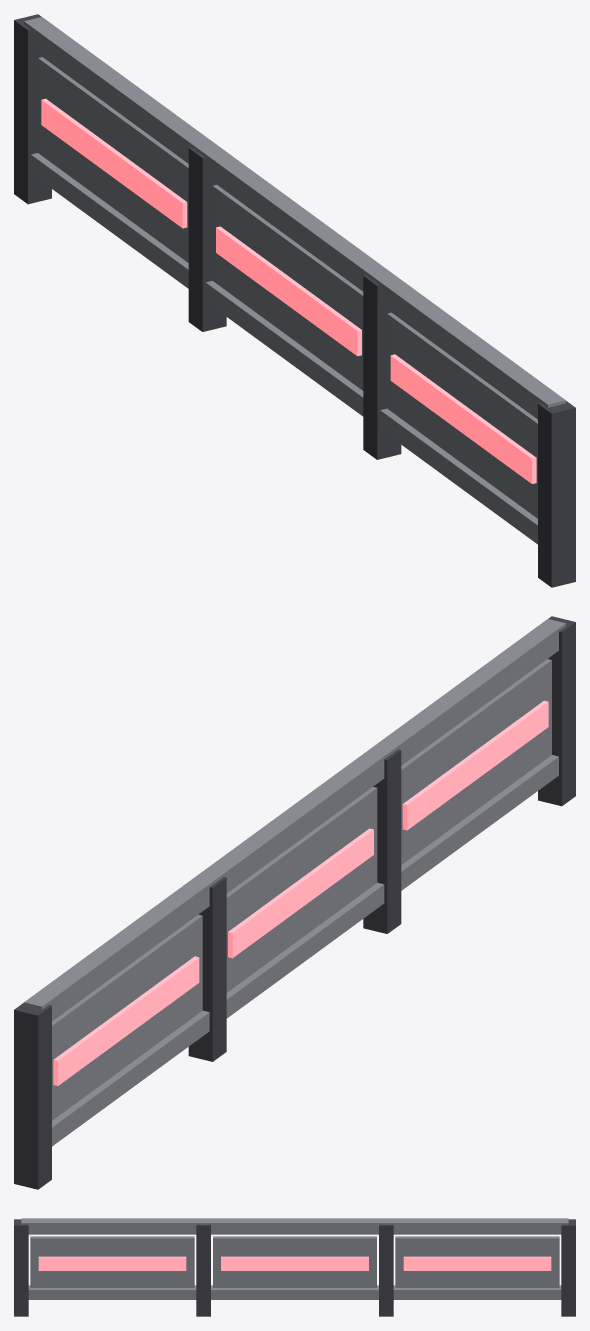
The model's file is valla.glb.
3 renders of one model, top to bottom at view 1: azimuth 30°, elevation 25°; view 2: azimuth 150°, elevation 25°; view 3: azimuth 270°, elevation 25°, orthographic. The views are drawn at different scales.
Parts seen in each view (by area): view 1: valla; view 2: valla; view 3: valla.
Part boxes in pixels (x1,y1,x2,y2): valla: (14, 14, 575, 587); valla: (14, 616, 575, 1189); valla: (14, 1218, 575, 1316).
Bounding box in the file's own units: 0.16 × 1.12 × 6.16.
